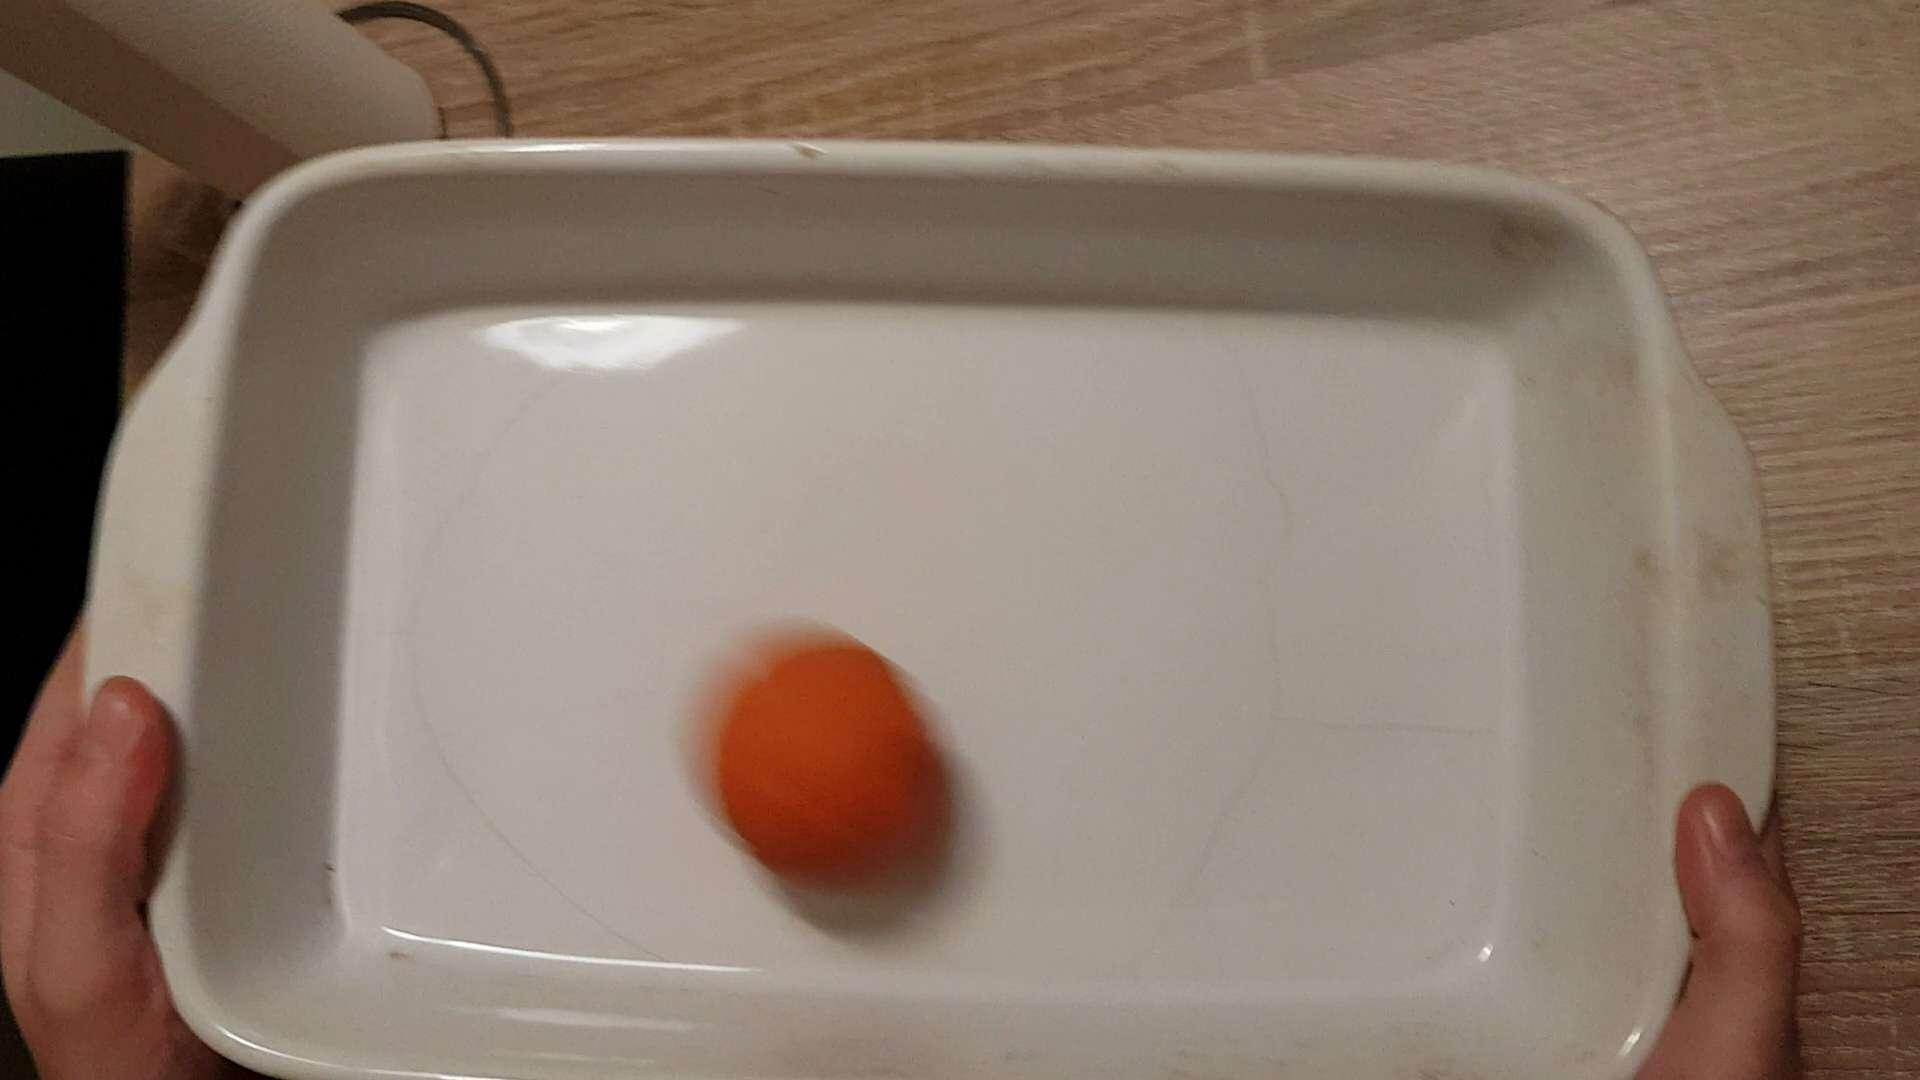Sphere: (684, 616, 957, 898)
